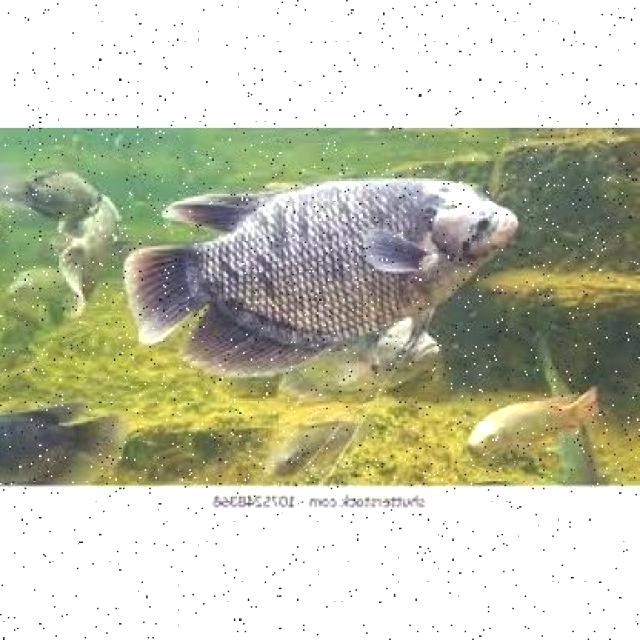gurame: (132, 173, 520, 374)
